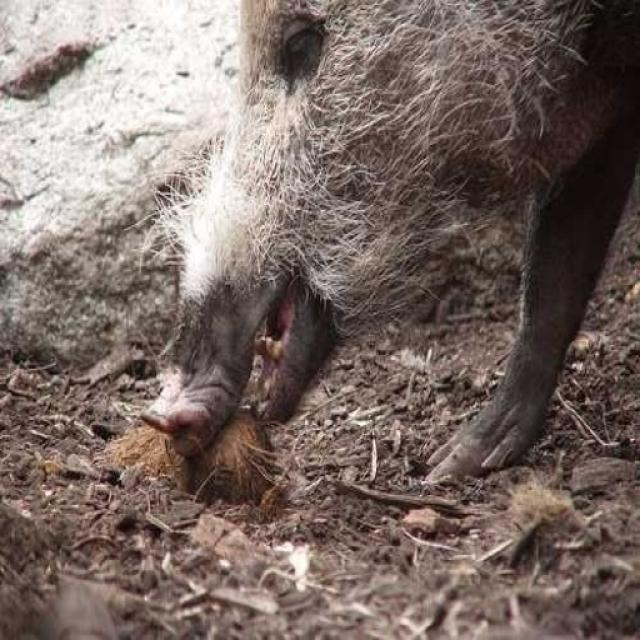pig: (54, 0, 640, 511)
